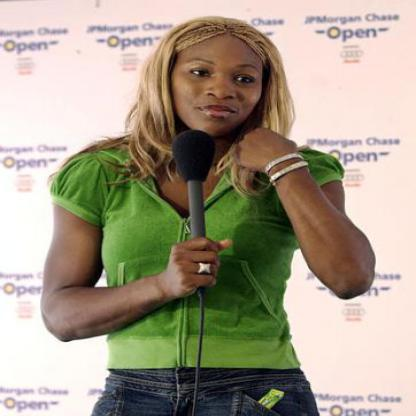face: (165, 20, 270, 139)
